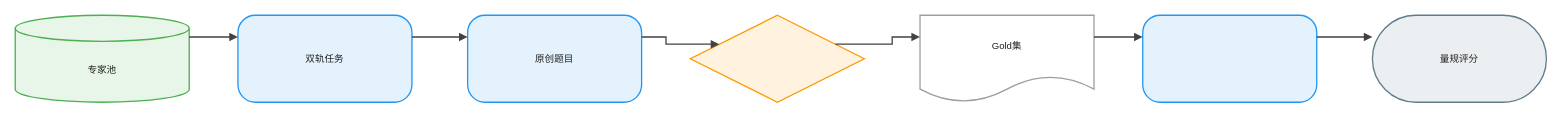
Image size: 1563x118. Some labels were removed from this diagram. The shapes that lost their labels are listed below. From the top down, each one's centre as x and y in pixels, then its label:
At (x=777, y=58): "同行复核".
At (x=1229, y=58): "模型作答".
